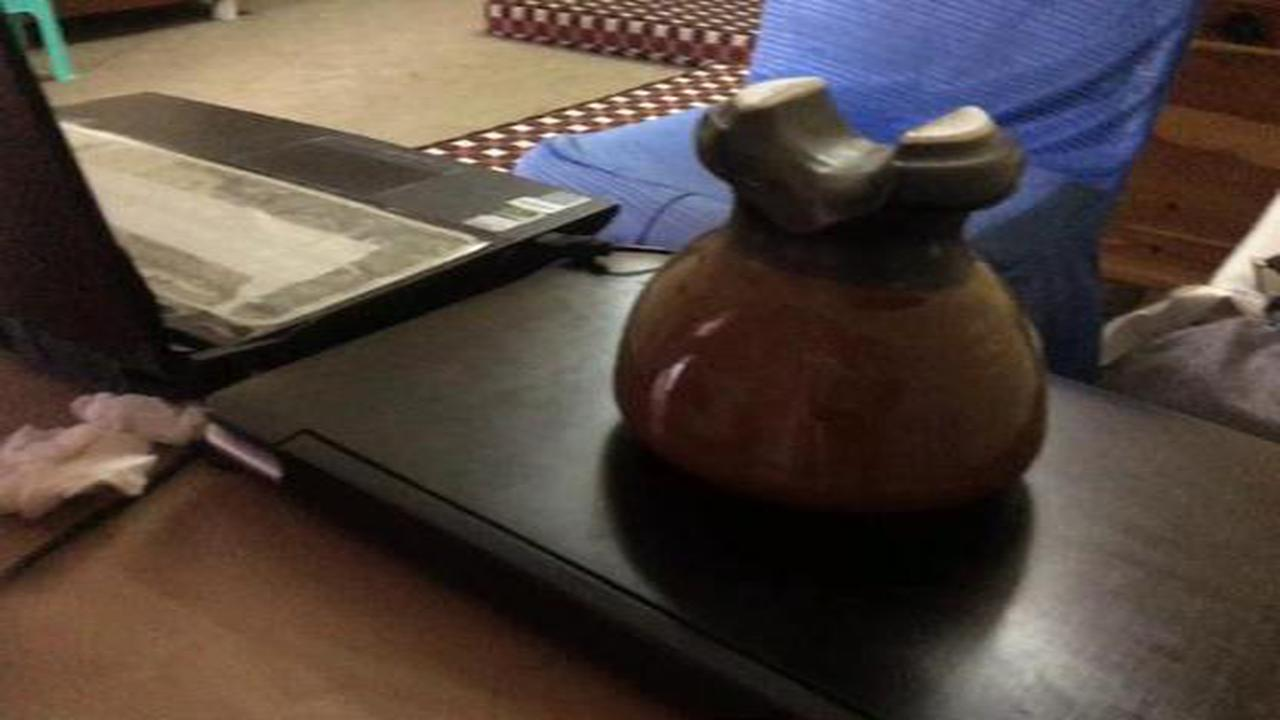insulator_pin: (594, 57, 1077, 541)
